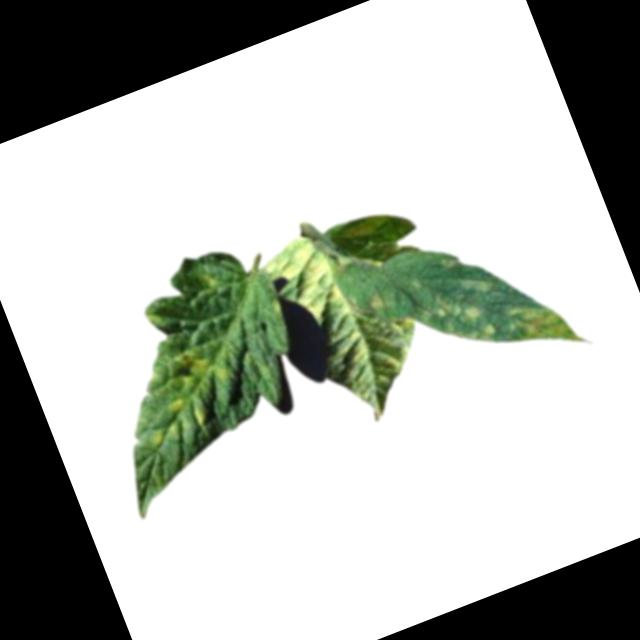Leaf_Mold: (259, 228, 351, 338), (502, 289, 578, 360), (139, 390, 212, 449), (414, 285, 482, 335), (170, 339, 227, 395), (463, 317, 500, 346), (360, 285, 394, 316)
